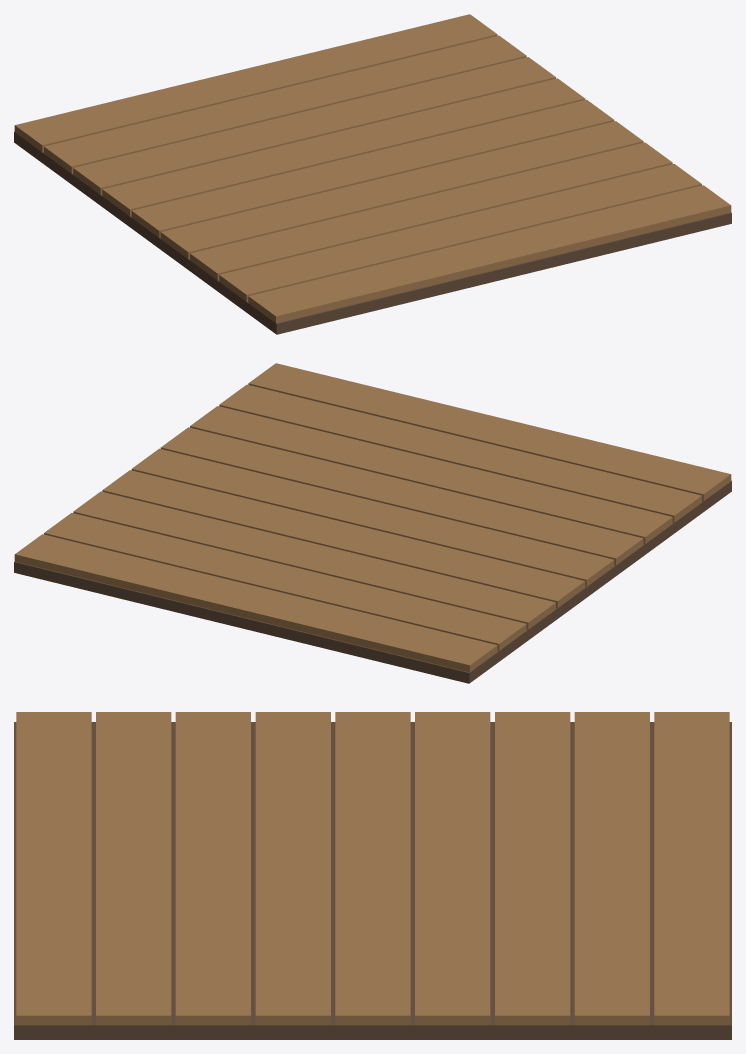
File: boardwalk.glb
3 renders of one model, top to bottom at view 1: azimuth 30°, elevation 25°; view 2: azimuth 150°, elevation 25°; view 3: azimuth 270°, elevation 25°, orthographic. The views are drawn at different scales.
Visible parts, largest first — view 1: SM_ENV_boardwalk; view 2: SM_ENV_boardwalk; view 3: SM_ENV_boardwalk.
Boxes of the visible parts, left/top/right/bottom form: SM_ENV_boardwalk: left=14, top=14, right=731, bottom=334; SM_ENV_boardwalk: left=14, top=363, right=731, bottom=683; SM_ENV_boardwalk: left=14, top=712, right=731, bottom=1039.
Bounding box in the file's own units: 4 × 0.15 × 4.
